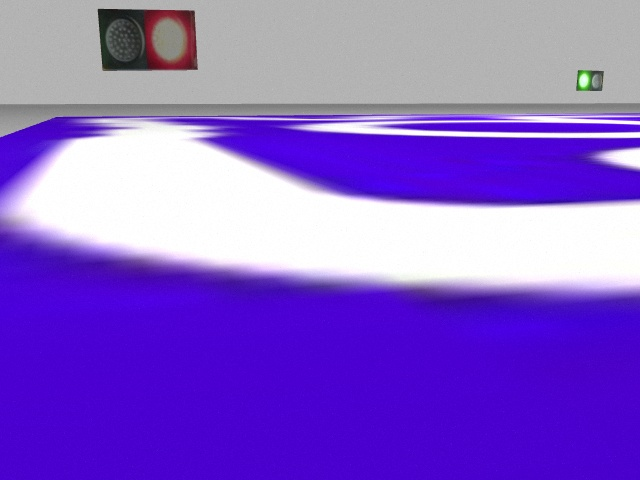red: (145, 7, 196, 69)
